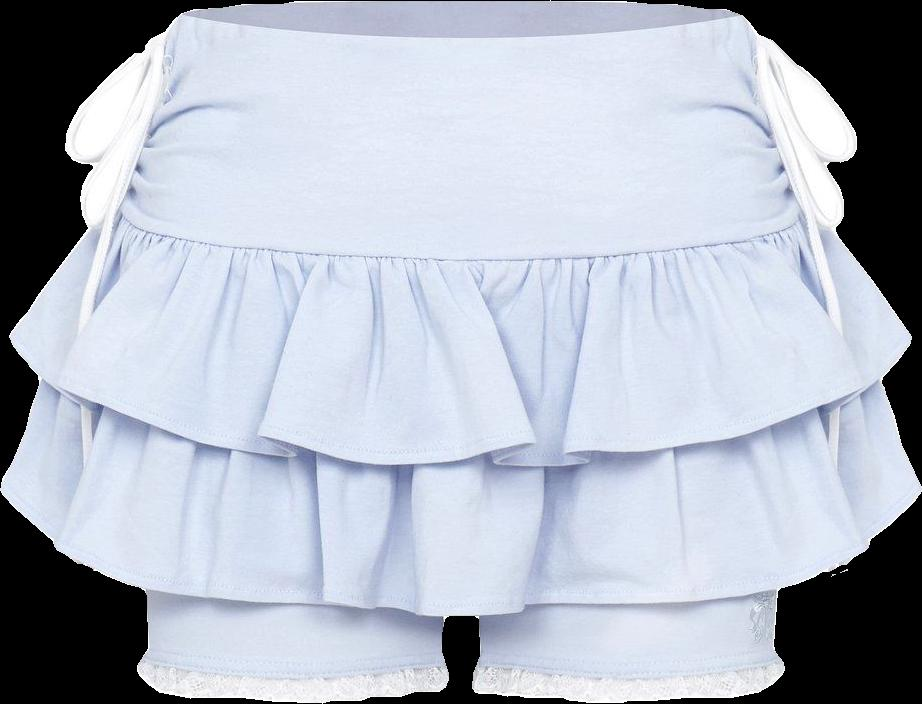Hemline: (0, 485, 921, 703), (7, 331, 915, 470)
Waistline: (113, 200, 808, 265), (177, 7, 741, 43)
